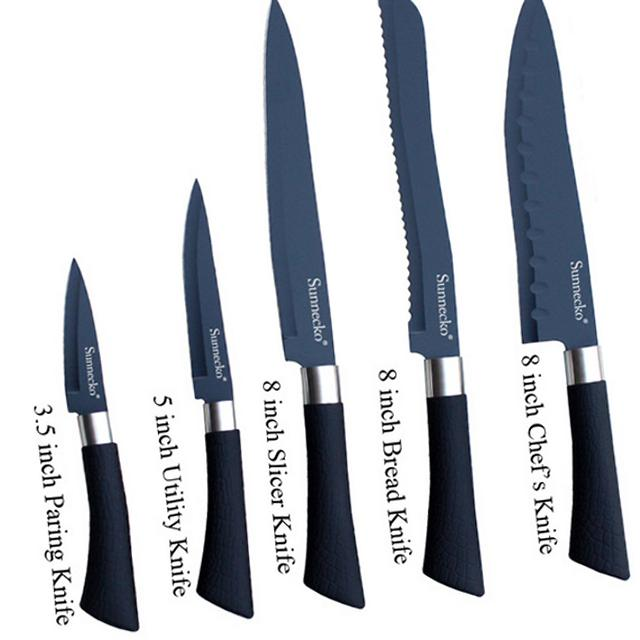knife: (264, 2, 368, 609), (185, 181, 256, 618), (64, 259, 143, 630)
